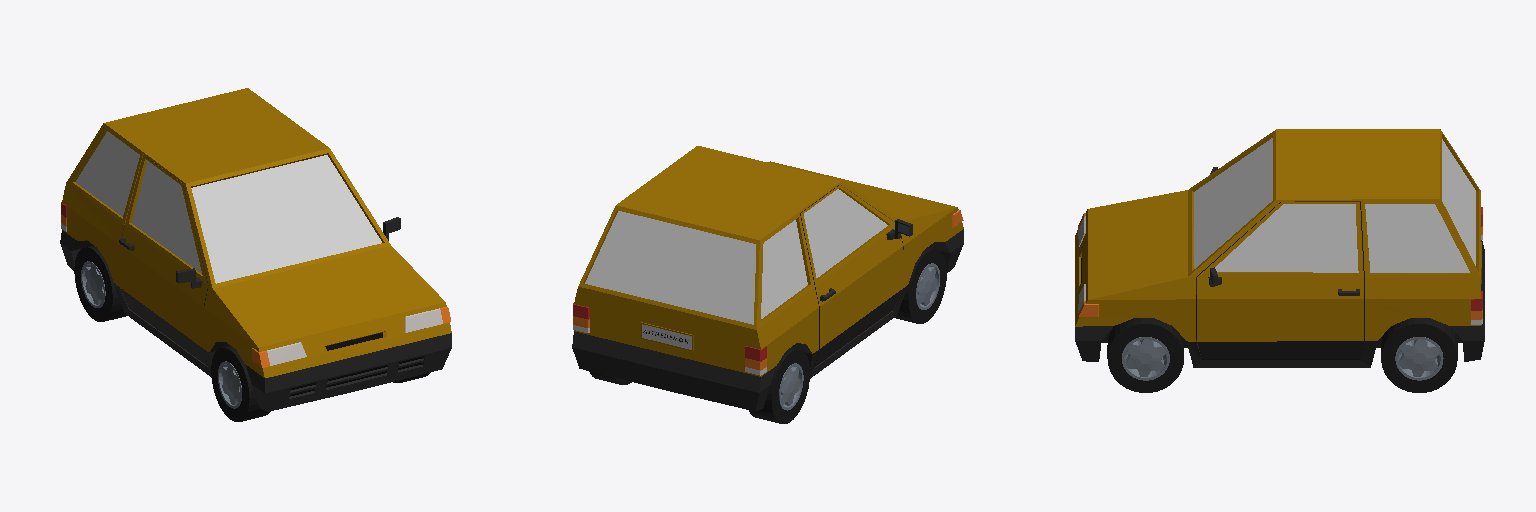
3 renders of one model, left to right at view 1: azimuth 30°, elevation 25°; view 2: azimuth 150°, elevation 25°; view 3: azimuth 270°, elevation 25°, orthographic.
Parts seen in each view (by area): view 1: car_body, windows, door_r, win_door_r.001, wheel_fr, wheel_br; view 2: car_body, windows, door_r, win_door_r.001, wheel_br, wheel_fr, free_number; view 3: car_body, door_l, windows, win_door_l.001, wheel_bl, wheel_fl.
Boxes of the visible parts, x1=… form: car_body: x1=60, y1=88, x2=451, y2=411; windows: x1=76, y1=131, x2=381, y2=283; door_r: x1=119, y1=155, x2=208, y2=365; win_door_r.001: x1=132, y1=161, x2=201, y2=273; wheel_fr: x1=211, y1=345, x2=270, y2=421; wheel_br: x1=74, y1=245, x2=126, y2=321; car_body: x1=572, y1=146, x2=963, y2=411; windows: x1=585, y1=211, x2=807, y2=324; door_r: x1=800, y1=185, x2=912, y2=366; win_door_r.001: x1=804, y1=189, x2=887, y2=277; wheel_br: x1=749, y1=347, x2=809, y2=423; wheel_fr: x1=894, y1=247, x2=946, y2=323; free_number: x1=641, y1=322, x2=693, y2=350; car_body: x1=1075, y1=129, x2=1484, y2=367; door_l: x1=1196, y1=202, x2=1364, y2=359; windows: x1=1194, y1=138, x2=1475, y2=272; win_door_l.001: x1=1215, y1=204, x2=1358, y2=272; wheel_bl: x1=1381, y1=318, x2=1457, y2=392; wheel_fl: x1=1107, y1=318, x2=1183, y2=392.
Size of the model in its own units: 2.18 by 1.71 by 3.46.
2 materials, 1 textured.